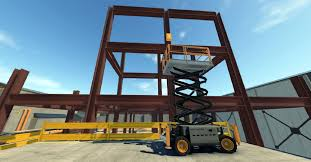Scissor Lift: (151, 44, 242, 155)
